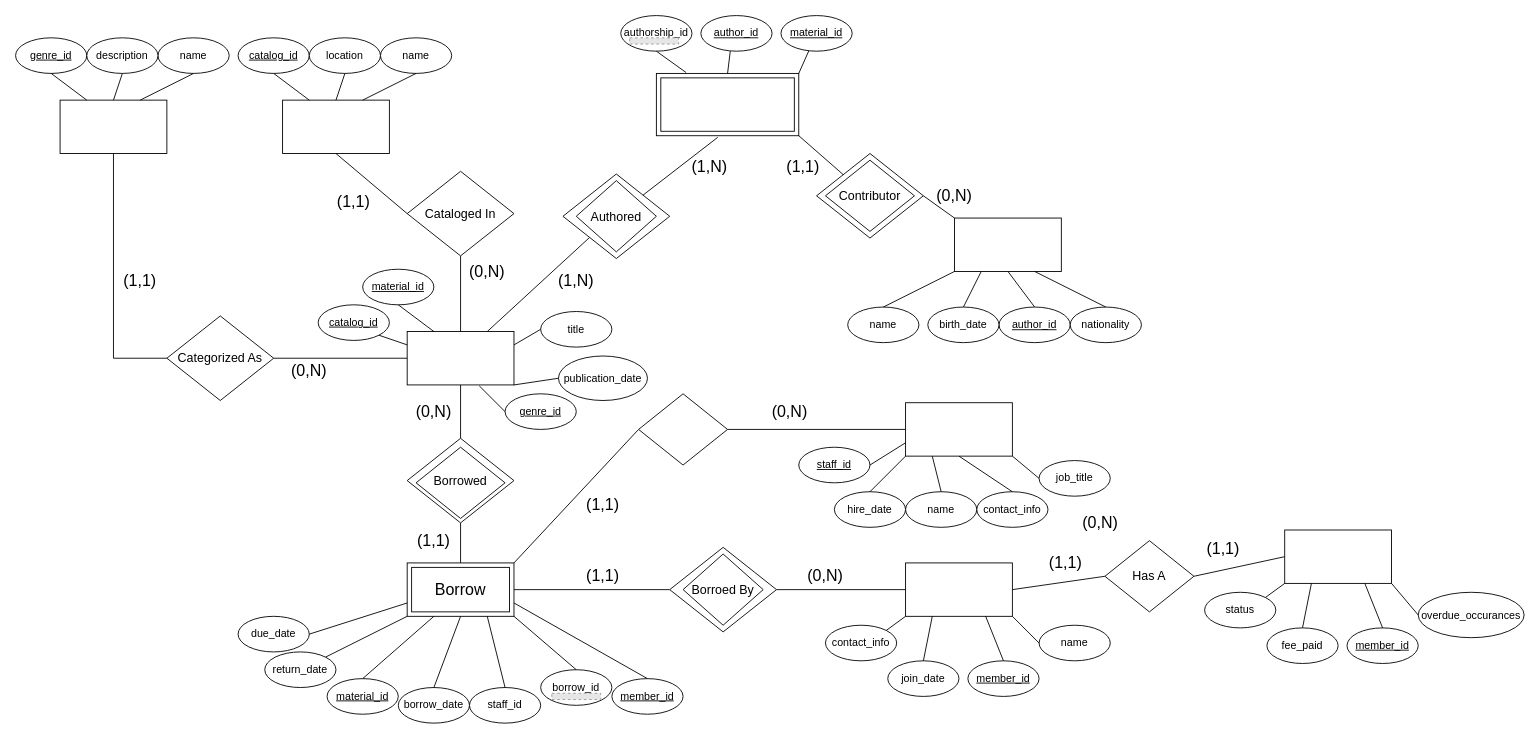
This 1540x739 diagram has some shape labels left out. Grey dashed boxes stand in for pictures. The centre of each missing label's shape, as x and y in pixels:
"Author" belongs at [1007,244].
"Authorship" belongs at [727,104].
"Catalog" belongs at [335,126].
"Genre" belongs at [113,126].
"Material" belongs at [460,358].
"Member" belongs at [958,589].
"Membership" belongs at [1338,556].
"Processed" belongs at [683,429].
"Staff" belongs at [958,429].
